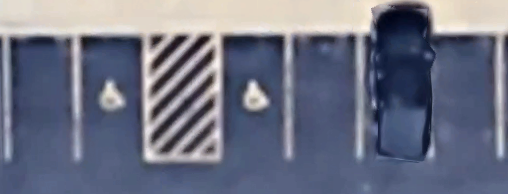Occupied: (359, 35, 430, 159)
Vacant: (287, 34, 361, 160), (220, 33, 290, 161), (6, 34, 77, 160), (76, 34, 146, 160), (429, 36, 501, 158)
